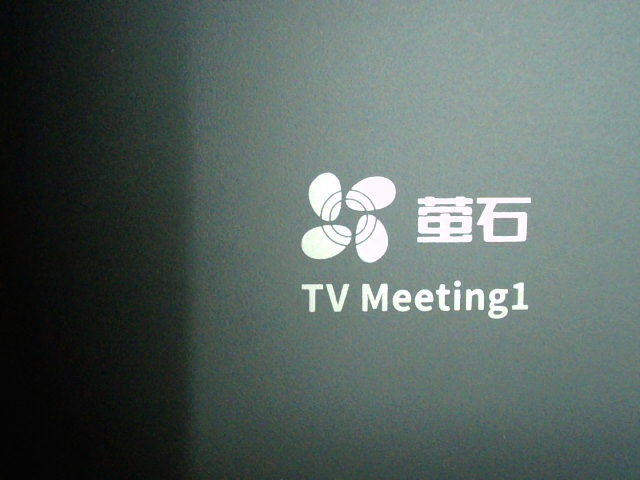BA_Yingshi: (295, 172, 541, 326)
